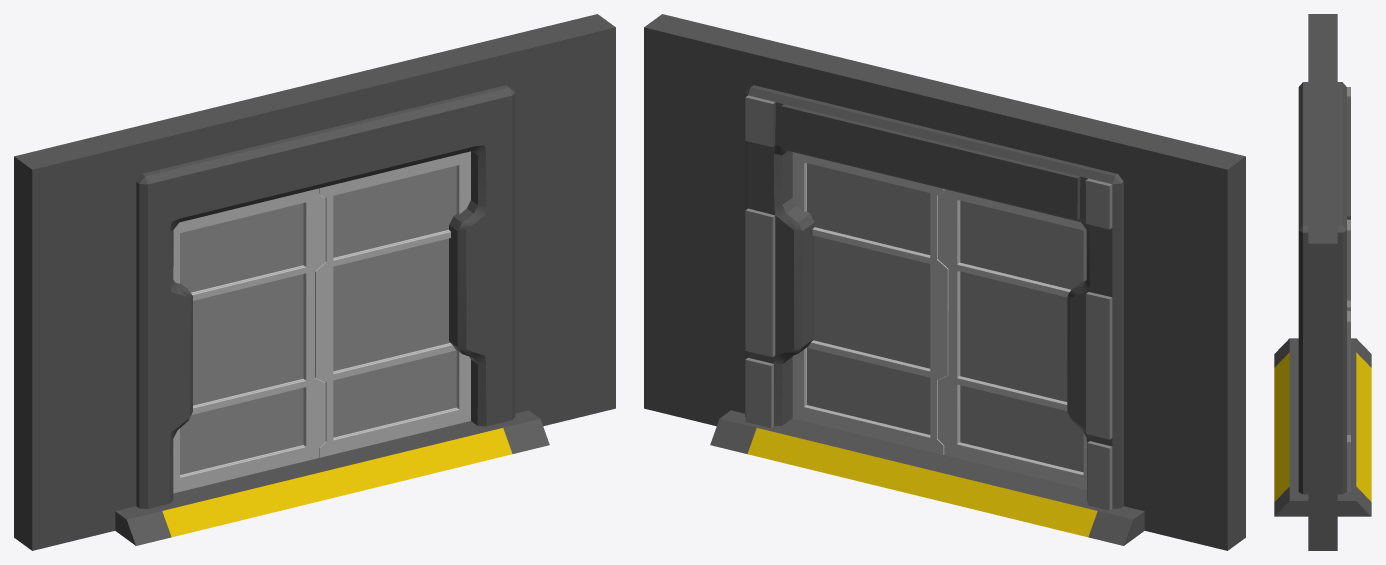
Rendered from DDoors.fbx.
3 renders of one model, left to right at view 1: azimuth 30°, elevation 25°; view 2: azimuth 150°, elevation 25°; view 3: azimuth 270°, elevation 25°, orthographic. The views are drawn at different scales.
Visible parts, largest first — view 1: Portal, Door_frame, Door7, Door8; view 2: Portal, Door_frame, Door7, Door8; view 3: Portal, Door_frame.
Part boxes in pixels (left/top/right/bottom): Portal: left=14, top=14, right=615, bottom=550; Door_frame: left=136, top=85, right=515, bottom=508; Door7: left=315, top=151, right=470, bottom=457; Door8: left=173, top=188, right=325, bottom=493; Portal: left=644, top=14, right=1245, bottom=550; Door_frame: left=745, top=85, right=1123, bottom=510; Door7: left=792, top=152, right=948, bottom=454; Door8: left=938, top=189, right=1086, bottom=489; Portal: left=1274, top=14, right=1371, bottom=550; Door_frame: left=1298, top=82, right=1350, bottom=494.
Bounding box in the file's own units: 15.24 × 9.51 × 2.72.
